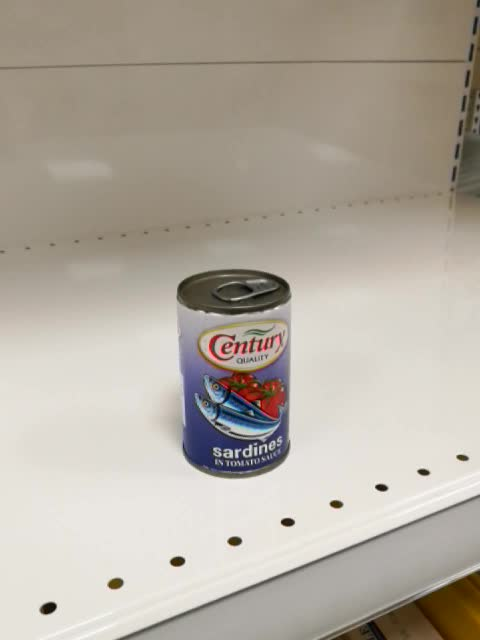sardine: (177, 268, 293, 481)
